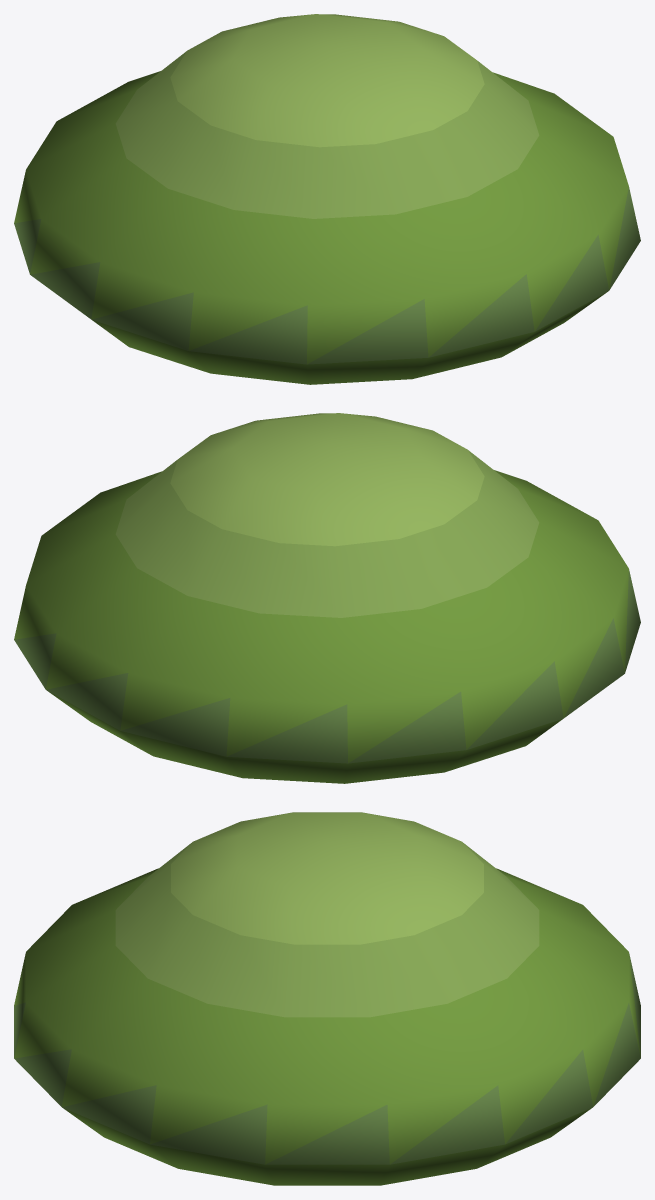
The model's file is itch_kaykit_forest_bush_3_a_color1.glb.
3 renders of one model, top to bottom at view 1: azimuth 30°, elevation 25°; view 2: azimuth 150°, elevation 25°; view 3: azimuth 270°, elevation 25°, orthographic.
Parts seen in each view (by area): view 1: Bush_3_A_Color1; view 2: Bush_3_A_Color1; view 3: Bush_3_A_Color1.
Part boxes in pixels (x1,y1,x2,y2): Bush_3_A_Color1: (14, 14, 640, 384); Bush_3_A_Color1: (14, 413, 640, 783); Bush_3_A_Color1: (14, 812, 640, 1185).
Bounding box in the file's own units: 0.96 × 0.4509 × 0.96.
